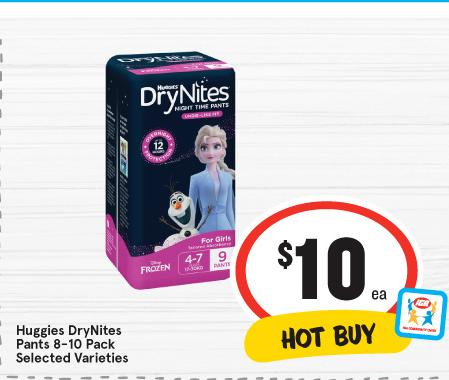description_block: (12, 319, 141, 367)
price_main: (263, 223, 393, 312)
product_image_block: (86, 43, 239, 291)
promo_text_block: (244, 315, 415, 362)
